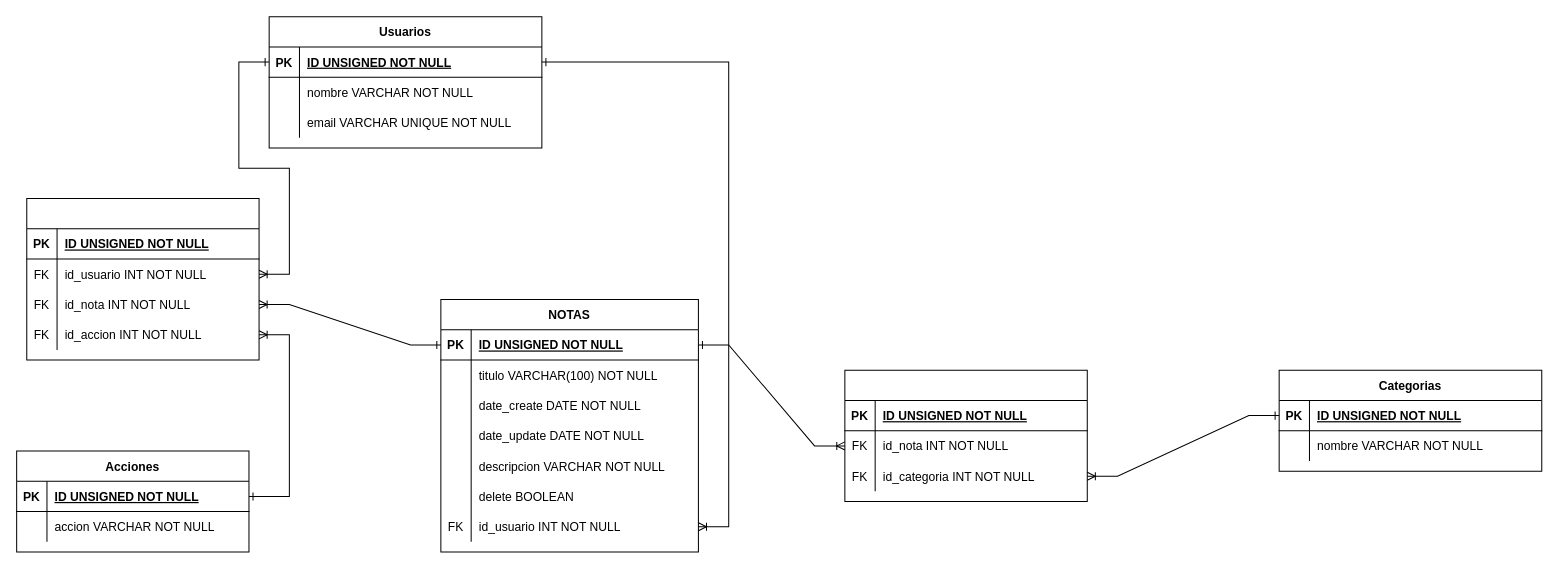
Some shapes in this 1558 by 569 pixel diagram are drawn without their labels. The box of each missing label's shape, as (x1, y1, x2, y2) in pixels:
Gestiones: (26, 197, 259, 360)
NOTA_CATEGORIA: (844, 369, 1087, 501)
